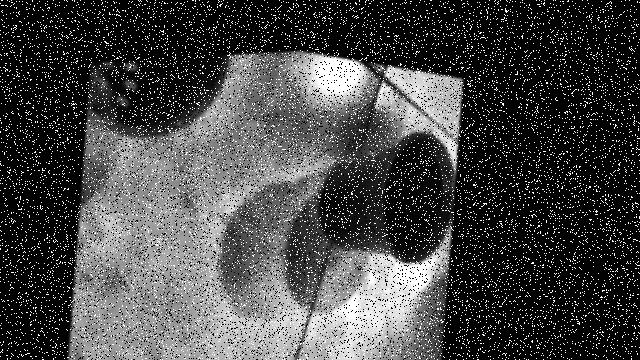pot: (318, 132, 455, 263), (85, 55, 229, 137)
